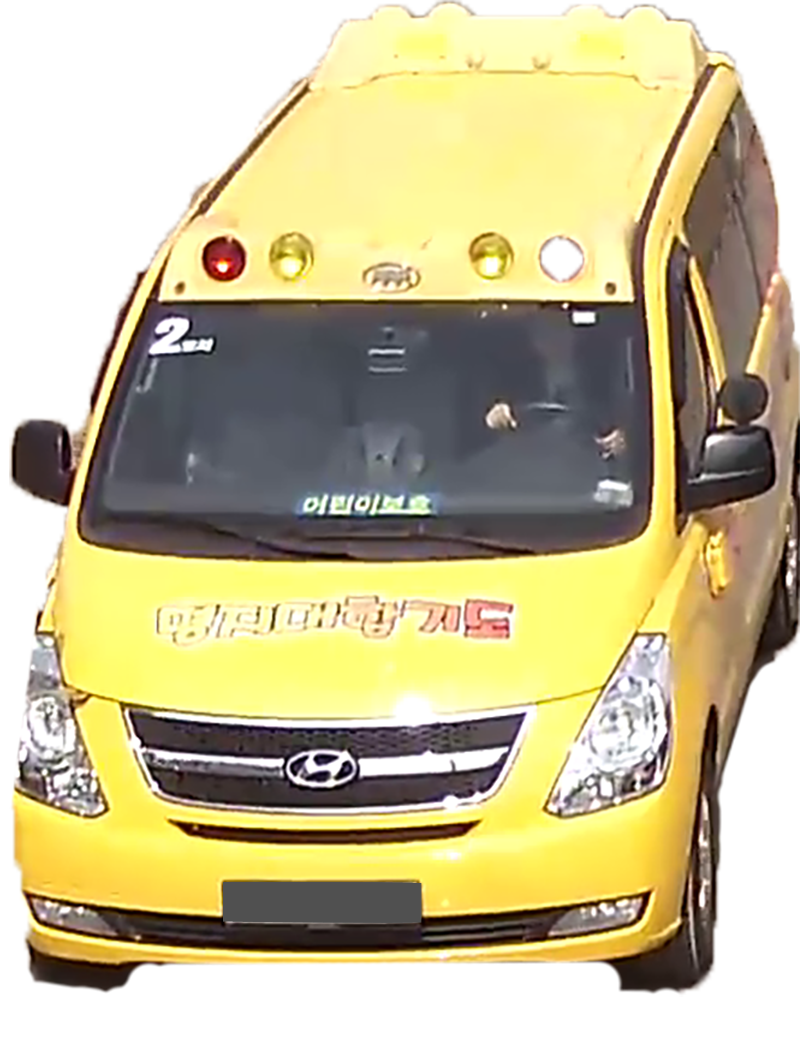P1_: (425, 882, 440, 894)
bbox: (222, 878, 425, 928)
